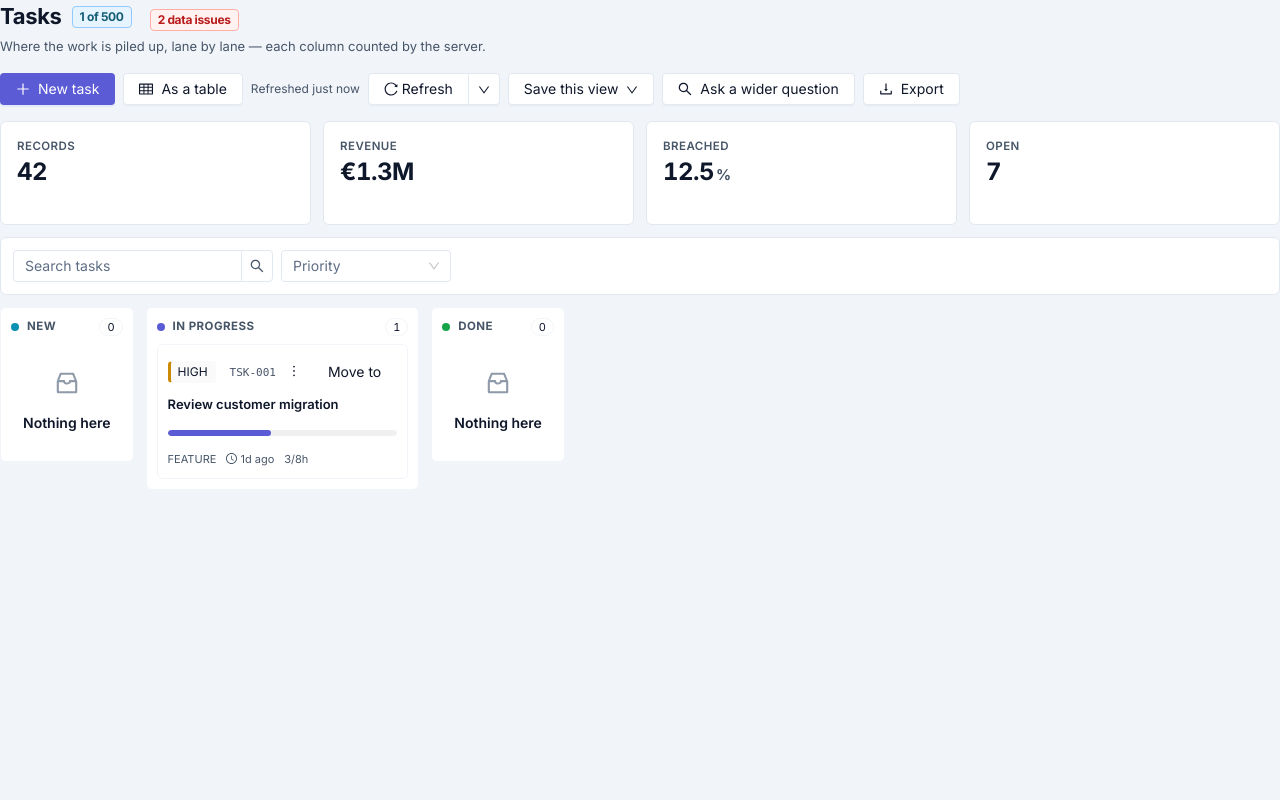
Test case: the edit form, before it has anything to show › says why a 404 read failed rather than opening a blank form
Click the button named "Actions for " at (294, 371), box [282, 359, 306, 383]
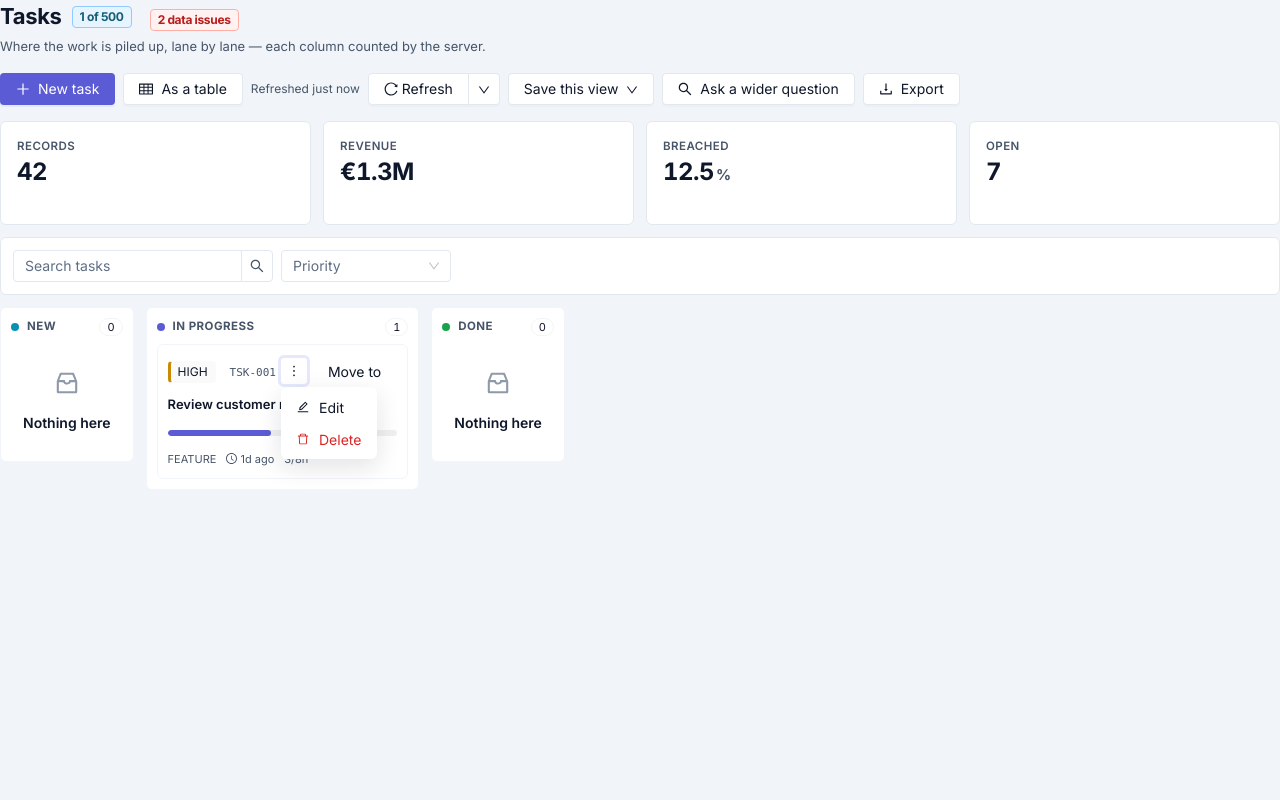
Click the menu item "Edit" at (320, 407), box [297, 398, 344, 416]
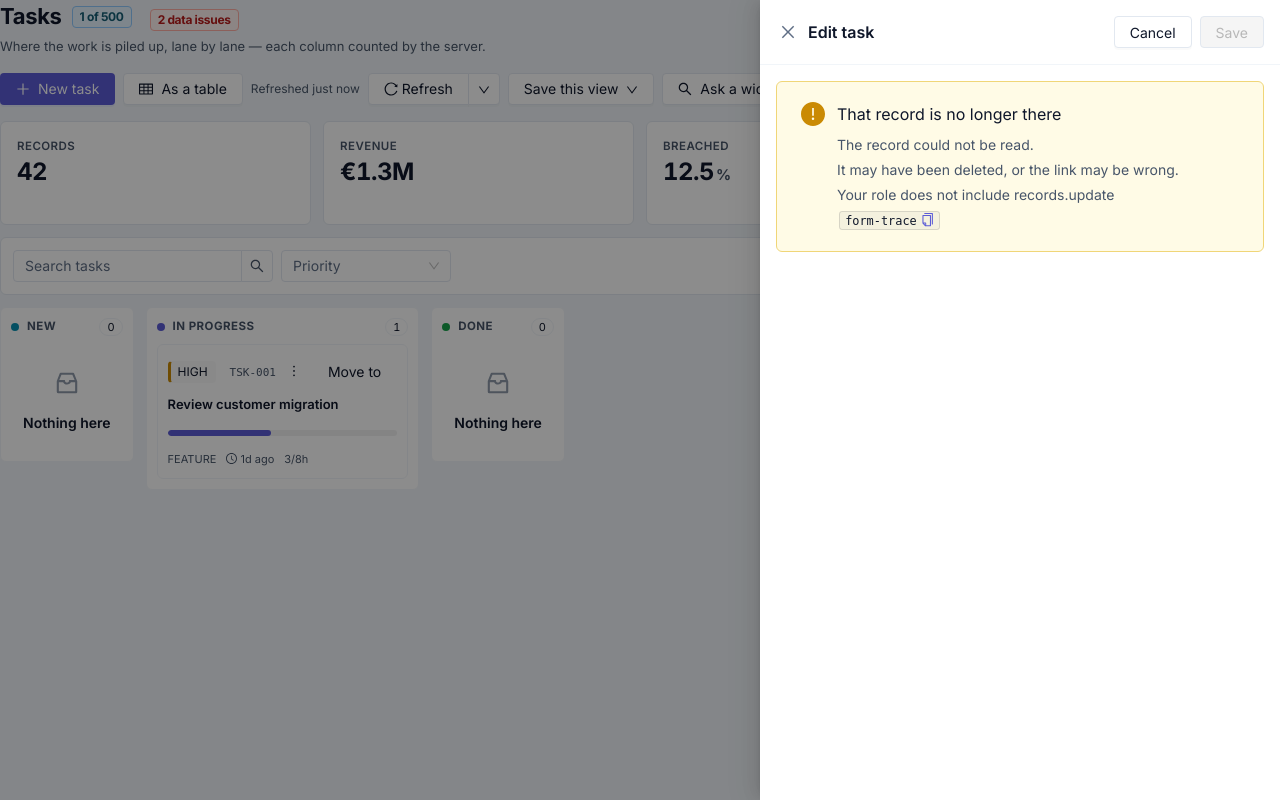
Now the text "That record is no longer there" is shown, box [837, 104, 1062, 124]
Now the message with test id "failure-alert" shows "form-trace", box [845, 214, 917, 228]
Now the button with test id "record-form-save" is disabled, box [1200, 16, 1264, 48]
